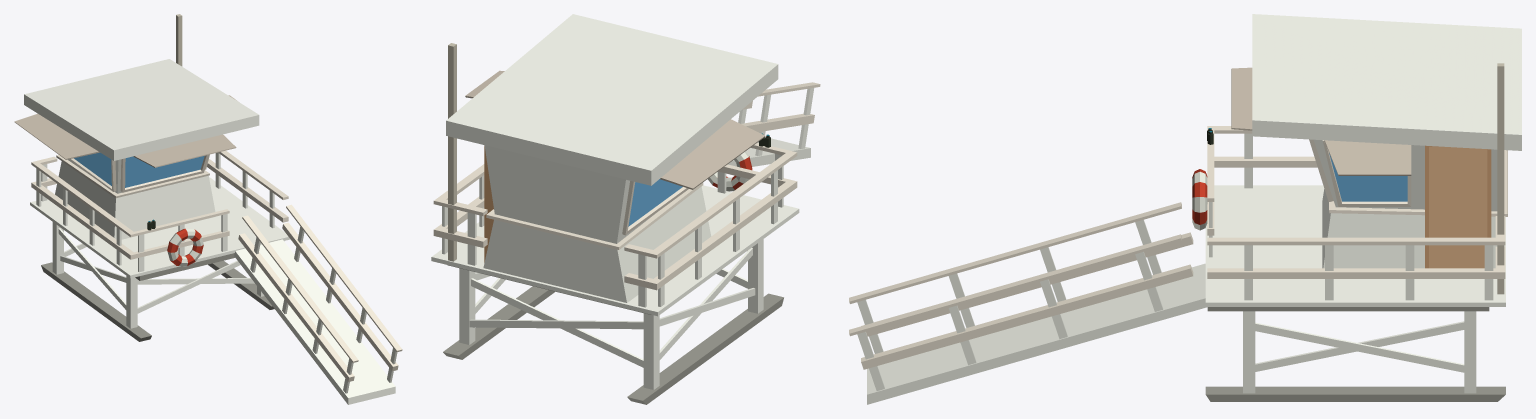
Rendered from LifeGuard_Tower.fbx.
The picture shows the model from 3 angles, left to right: view 1: azimuth 30°, elevation 25°; view 2: azimuth 150°, elevation 25°; view 3: azimuth 270°, elevation 25°; orthographic projection. The views are drawn at different scales.
Visible parts, largest first — view 1: Lifeguard_Tower; view 2: Lifeguard_Tower; view 3: Lifeguard_Tower.
Boxes of the visible parts, x1,y1,x2,y2 form: Lifeguard_Tower: (14, 14, 402, 404); Lifeguard_Tower: (431, 14, 820, 404); Lifeguard_Tower: (849, 14, 1521, 404).
Size of the model in its own units: 202 by 230 by 417.
